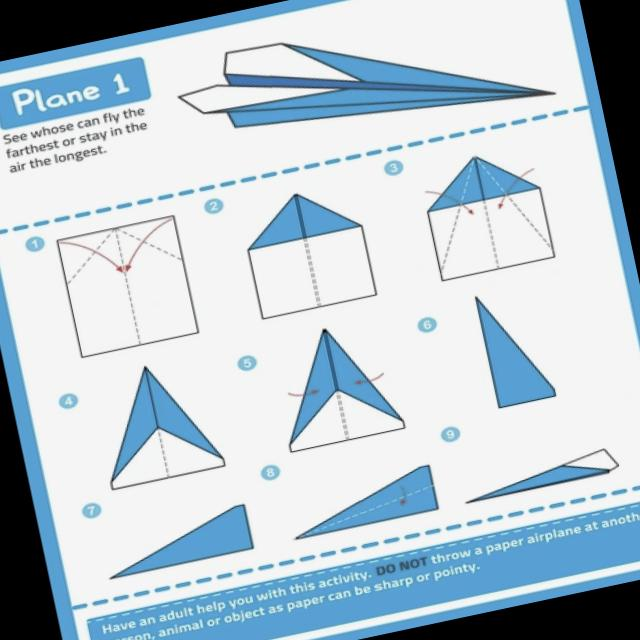arrow: (128, 218, 173, 265), (59, 241, 121, 270), (499, 169, 533, 209), (426, 191, 474, 215), (355, 374, 384, 384), (289, 390, 318, 396), (400, 486, 407, 504), (117, 264, 131, 272)
fold-line: (298, 482, 436, 540), (473, 155, 556, 250), (318, 324, 354, 446), (470, 153, 506, 274), (442, 156, 478, 274), (140, 362, 174, 482), (290, 191, 324, 310), (110, 224, 142, 348), (66, 228, 117, 285), (118, 228, 184, 262), (383, 192, 384, 194)
